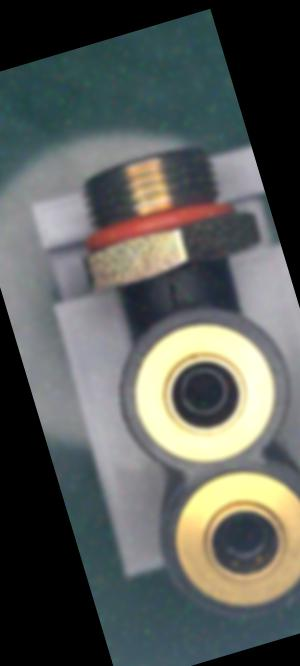craze: (157, 267, 186, 312)
